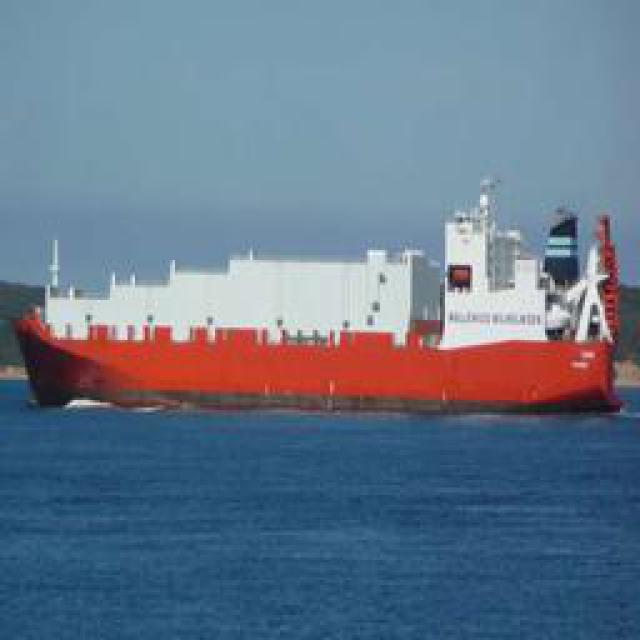Ship: (24, 205, 627, 418)
